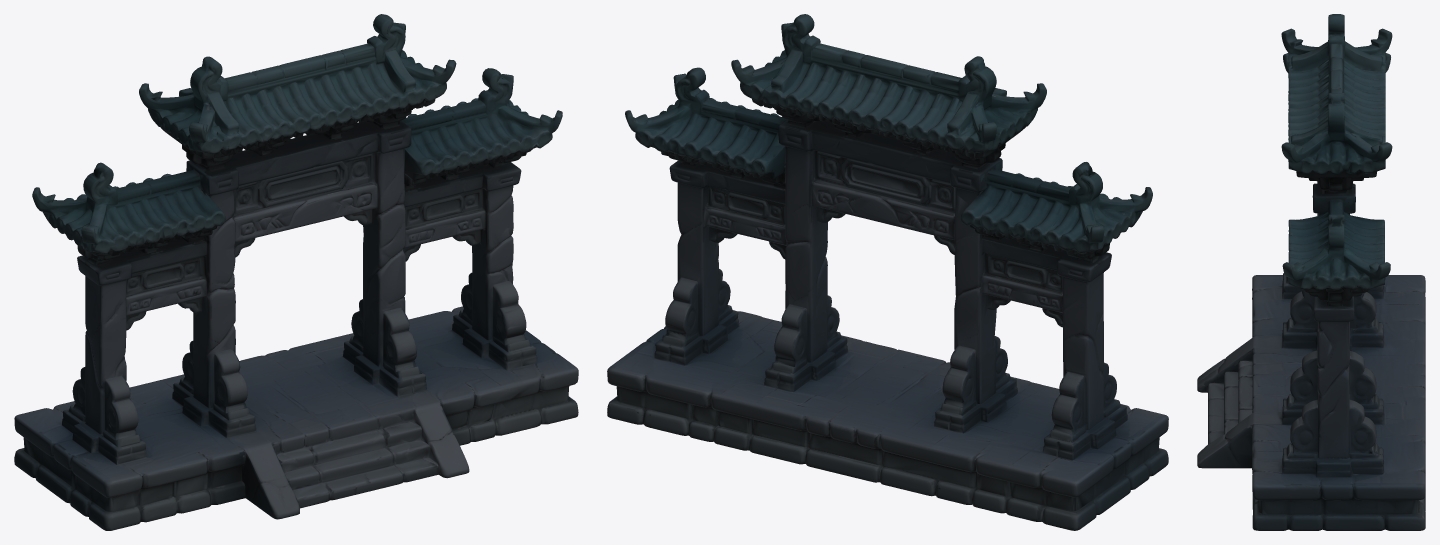
The model's file is jade_gate.glb.
3 views of the same model, side by side, from view 1: azimuth 30°, elevation 25°; view 2: azimuth 150°, elevation 25°; view 3: azimuth 270°, elevation 25° (orthographic). The views are drawn at different scales.
Visible parts, largest first — view 1: node_0; view 2: node_0; view 3: node_0.
Part boxes in pixels (bbox=[...]): node_0: bbox=[14, 14, 578, 530]; node_0: bbox=[607, 14, 1168, 530]; node_0: bbox=[1197, 14, 1425, 530].
Size of the model in its own units: 8.74 by 7 by 3.91.
Materials: 1 (1 with a texture image).
